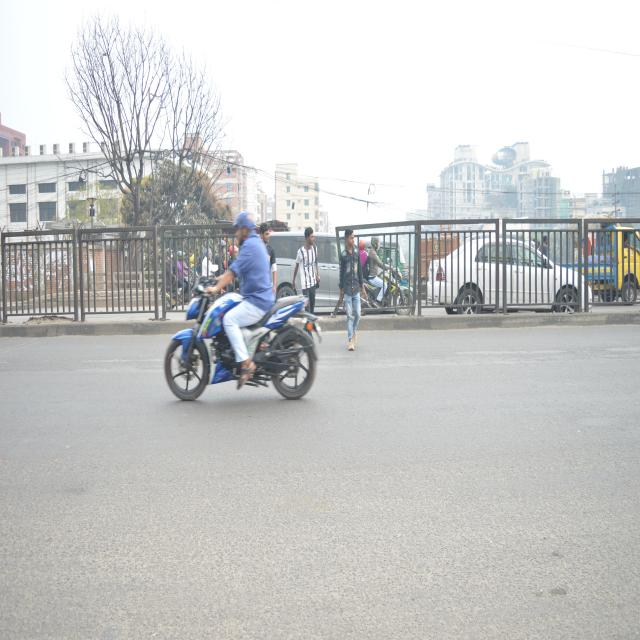car: (425, 222, 600, 336)
microbus: (265, 220, 372, 314)
motorbike: (160, 263, 320, 420), (351, 262, 424, 326)
pickup-van: (553, 208, 640, 310)
